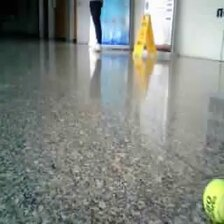tennis: (203, 178, 224, 222)
